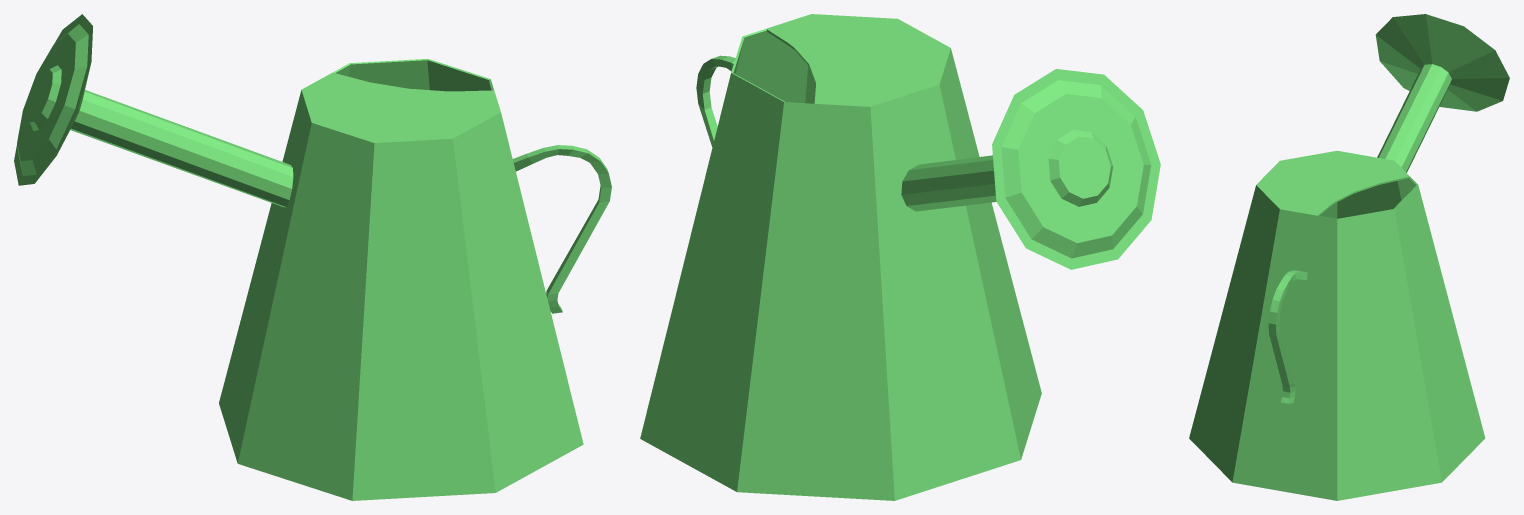
Rendered from can.fbx.
The picture shows the model from 3 angles, left to right: view 1: azimuth 30°, elevation 25°; view 2: azimuth 150°, elevation 25°; view 3: azimuth 270°, elevation 25°; orthographic projection. The views are drawn at different scales.
Parts seen in each view (by area): view 1: Can.002; view 2: Can.002; view 3: Can.002.
Boxes of the visible parts, bbox=[...] form: Can.002: bbox=[14, 14, 611, 500]; Can.002: bbox=[640, 14, 1160, 500]; Can.002: bbox=[1189, 14, 1509, 500].
Bounding box in the file's own units: 499 × 403 × 358.
